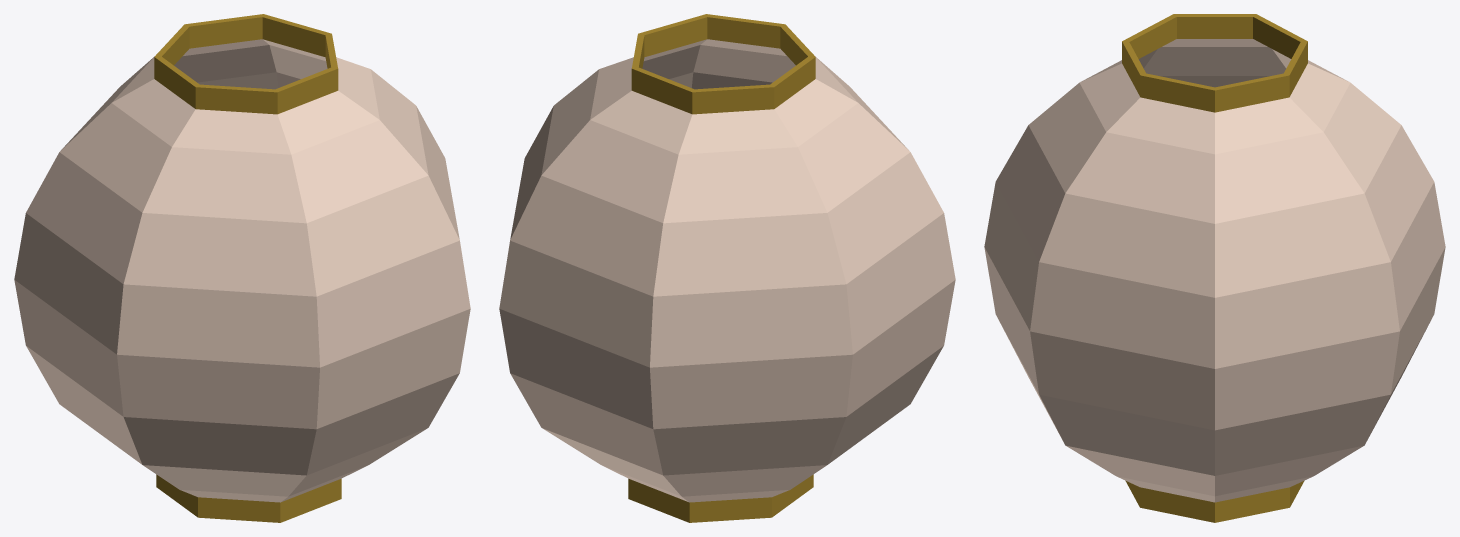
The model's file is Lantern2.fbx.
3 renders of one model, left to right at view 1: azimuth 30°, elevation 25°; view 2: azimuth 150°, elevation 25°; view 3: azimuth 270°, elevation 25°, orthographic.
Parts seen in each view (by area): view 1: pSphere14; view 2: pSphere14; view 3: pSphere14.
Boxes of the visible parts, x1,y1,x2,y2 form: pSphere14: (14, 14, 470, 522); pSphere14: (499, 14, 955, 522); pSphere14: (984, 14, 1445, 522).
Size of the model in its own units: 1.9 by 2.01 by 1.95.
